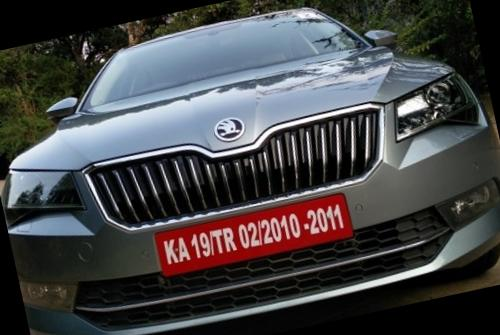plate: (144, 174, 369, 299)
